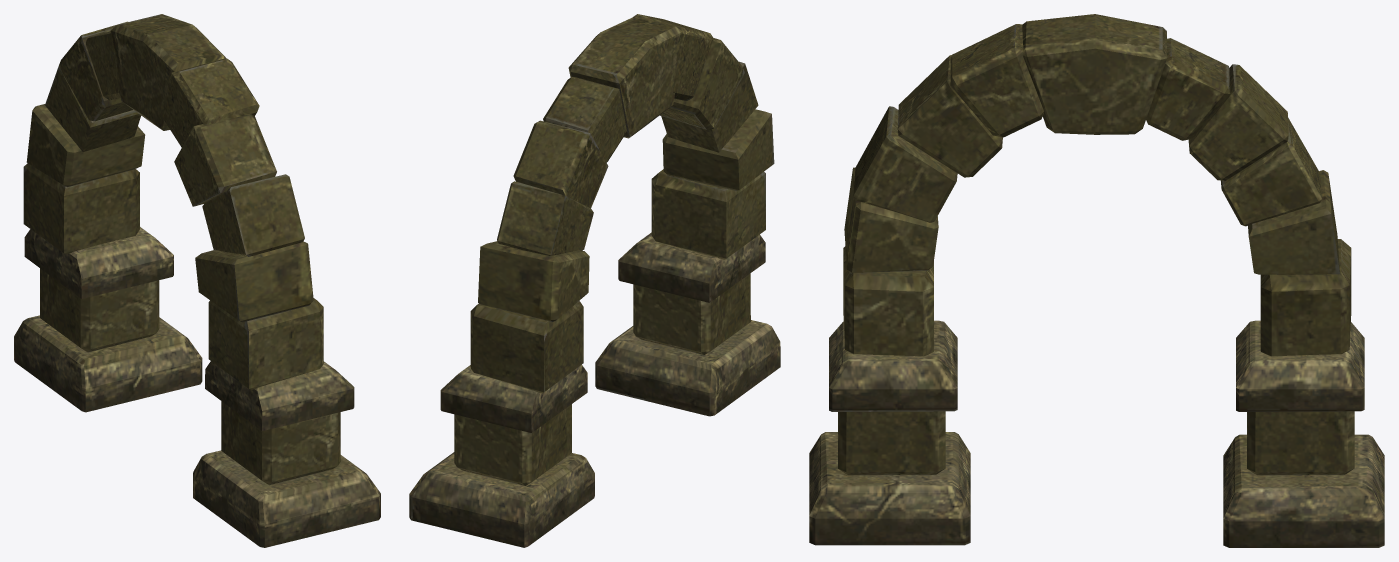
The model's file is Stage001_DOOR_02.FBX.
The picture shows the model from 3 angles, left to right: view 1: azimuth 30°, elevation 25°; view 2: azimuth 150°, elevation 25°; view 3: azimuth 270°, elevation 25°; orthographic projection. The views are drawn at different scales.
Parts seen in each view (by area): view 1: Stage001_DOOR_02; view 2: Stage001_DOOR_02; view 3: Stage001_DOOR_02.
Boxes of the visible parts, x1,y1,x2,y2 form: Stage001_DOOR_02: (14, 14, 380, 547); Stage001_DOOR_02: (409, 14, 780, 547); Stage001_DOOR_02: (809, 14, 1384, 547).
Bounding box in the file's own units: 155 × 451 × 498.
1 material, 1 textured.
